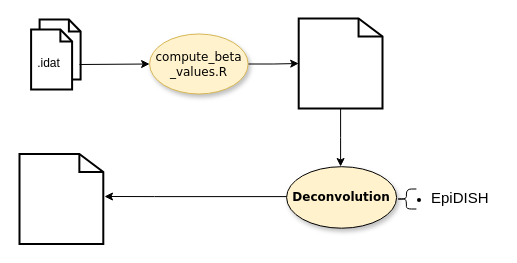
The diagram is 517 pixels wide and 263 high, and some of its shapes have lost their labels. Each missing label, with the centre of its shape:
"beta_values .txt" belongs at [340,63].
"Deconvolution .txt" belongs at [61,198].
